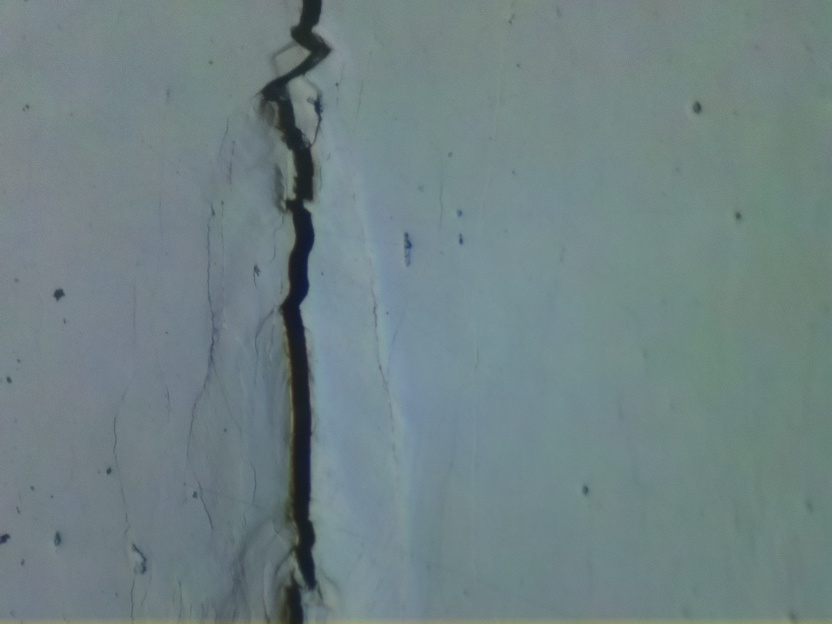crack: (257, 0, 335, 624)
